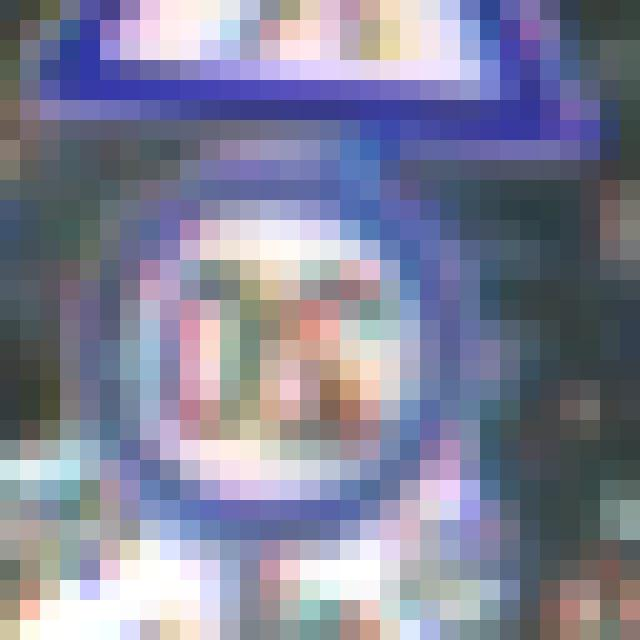SPEED LIMIT 20: (136, 183, 440, 499)
